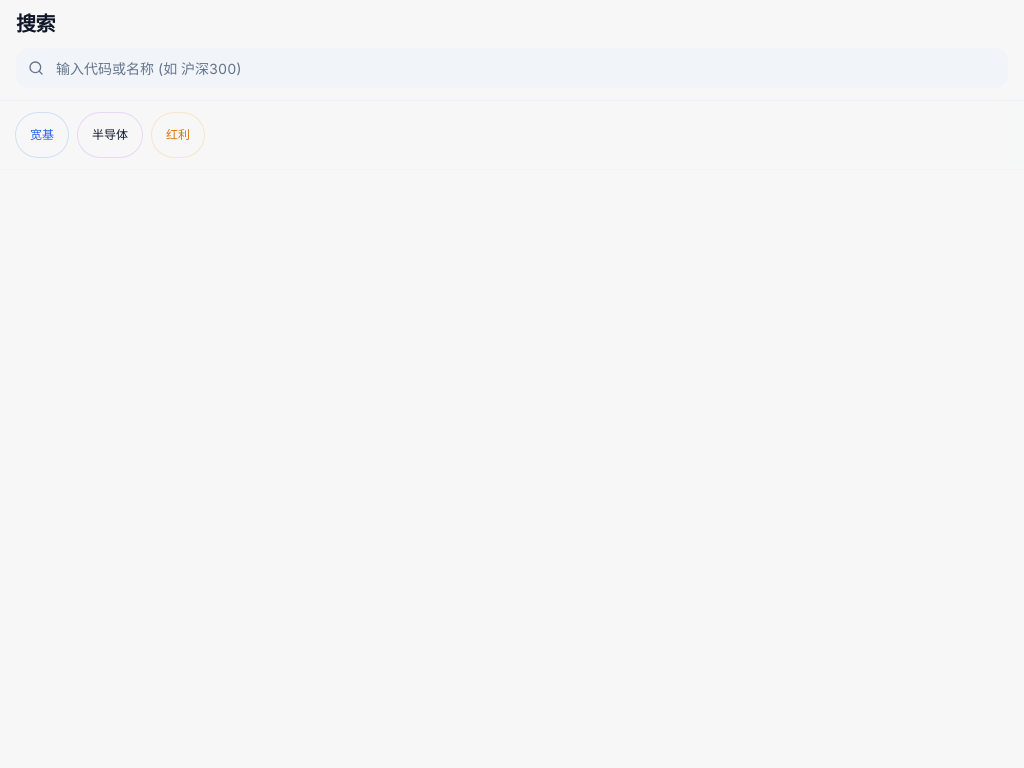
Test: 搜索页标签筛选 › 点击标签显示筛选结果标题
Click the radio button "宽基" at [42, 135], box [16,113,68,157]
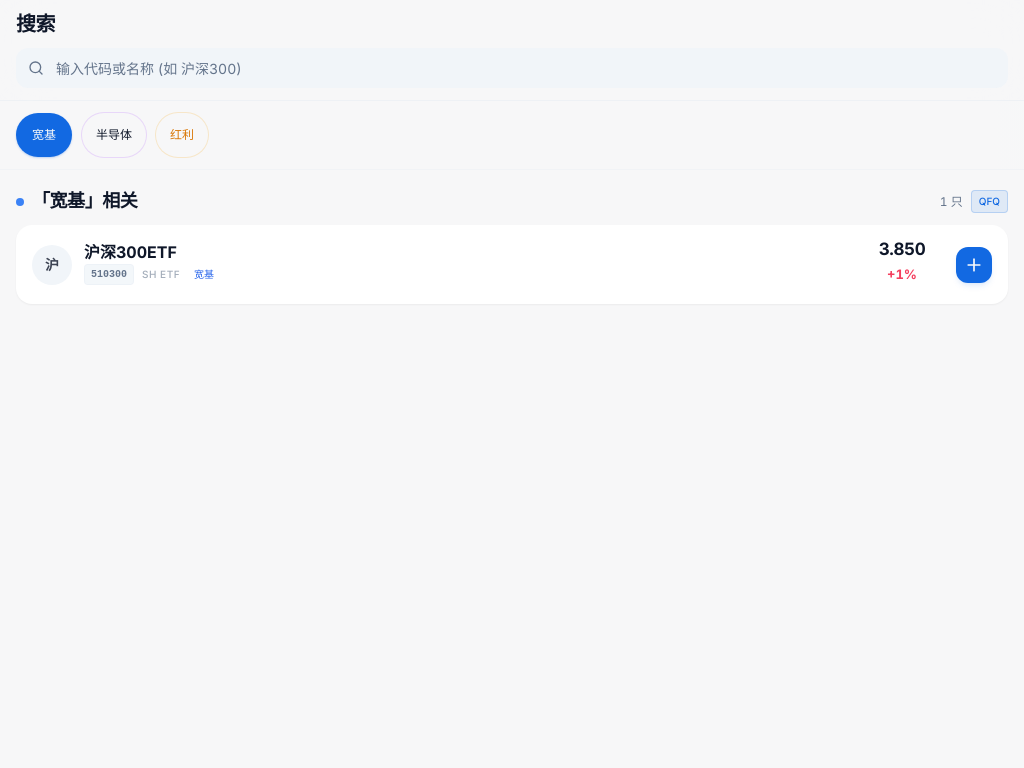
Now the heading "「宽基」相关" is shown, box [32,190,137,213]
